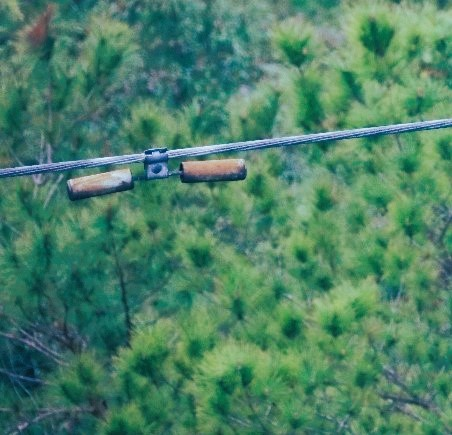Shockproof hammer: (55, 136, 255, 206)
